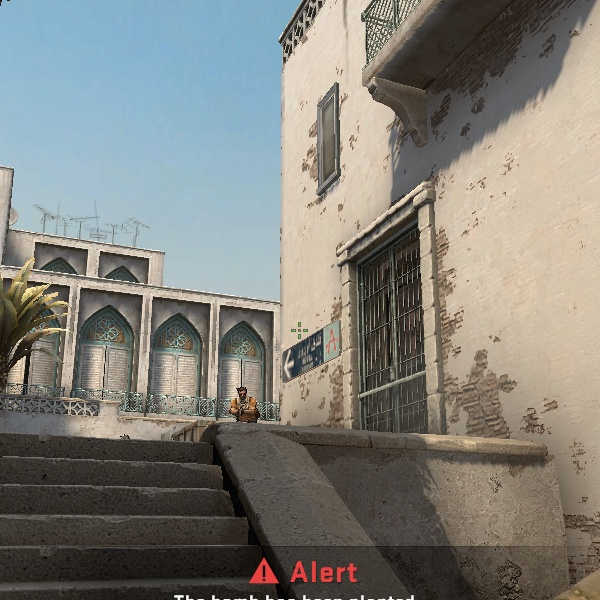t_body: (222, 384, 264, 421)
